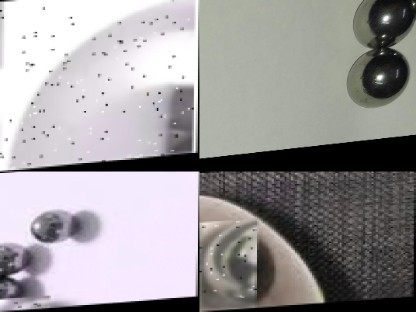ironball: (0, 0, 195, 171), (199, 217, 258, 311), (18, 198, 89, 250), (346, 48, 405, 108), (351, 0, 413, 52), (0, 236, 38, 269), (0, 294, 50, 311)
